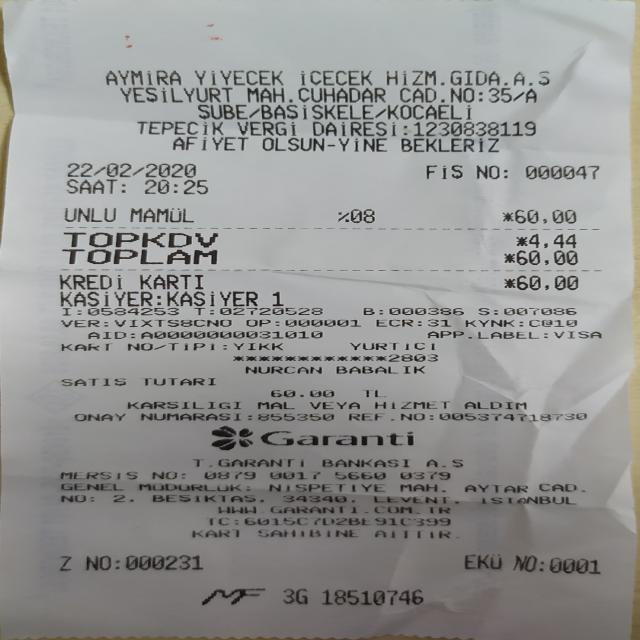text: (385, 66, 549, 87), (64, 230, 216, 248), (260, 429, 412, 447), (61, 248, 217, 265), (67, 159, 195, 178), (270, 504, 450, 516), (412, 120, 535, 137), (246, 516, 454, 526), (119, 86, 232, 104), (321, 587, 422, 607), (260, 104, 373, 121), (401, 136, 498, 154), (163, 289, 254, 308), (391, 102, 478, 121), (141, 330, 322, 339), (438, 411, 586, 422), (298, 86, 385, 104), (192, 69, 282, 85), (312, 120, 396, 137), (268, 482, 385, 494), (137, 120, 223, 136), (152, 492, 255, 505), (124, 554, 206, 570), (172, 135, 248, 152), (102, 69, 180, 85), (524, 164, 602, 180), (127, 400, 240, 411), (256, 528, 358, 540), (428, 329, 538, 340), (145, 177, 207, 196), (139, 481, 237, 493), (139, 411, 245, 422), (56, 289, 116, 308), (322, 457, 409, 470), (218, 457, 312, 469), (481, 494, 575, 506), (262, 135, 323, 153), (516, 248, 577, 266), (297, 70, 375, 84), (239, 120, 307, 136), (139, 273, 202, 290), (59, 273, 121, 290), (551, 554, 597, 576), (221, 306, 321, 316), (514, 208, 576, 224), (67, 176, 119, 195), (111, 319, 233, 327), (349, 341, 433, 352), (516, 275, 577, 290), (196, 102, 244, 121), (89, 306, 180, 316), (372, 528, 453, 539), (335, 364, 423, 374), (142, 376, 215, 388), (373, 493, 446, 505), (129, 207, 191, 221), (348, 411, 425, 422), (60, 470, 136, 481), (259, 411, 334, 422), (375, 400, 449, 411), (283, 492, 345, 505), (61, 376, 125, 388), (388, 306, 464, 316), (464, 482, 527, 494), (245, 364, 320, 374), (61, 481, 123, 493), (464, 551, 499, 572), (504, 306, 576, 316), (64, 207, 115, 221), (464, 400, 526, 411), (340, 138, 388, 152), (247, 86, 284, 104), (425, 164, 466, 180), (529, 233, 575, 247), (400, 86, 435, 104), (270, 388, 333, 398), (120, 289, 153, 308), (286, 319, 362, 327), (191, 527, 238, 539), (204, 470, 255, 481), (309, 400, 359, 411), (74, 411, 124, 422), (334, 470, 384, 481), (400, 470, 450, 481), (465, 317, 514, 328), (61, 341, 110, 352), (528, 317, 576, 328), (233, 341, 281, 352), (554, 329, 601, 340), (266, 471, 323, 480), (387, 352, 437, 362), (167, 342, 214, 352), (262, 289, 285, 308), (426, 458, 462, 470), (281, 589, 308, 605), (61, 317, 99, 328), (488, 86, 511, 104), (514, 554, 537, 572), (257, 400, 294, 411), (450, 86, 472, 104), (376, 317, 412, 328), (400, 482, 436, 493), (539, 482, 572, 494), (86, 553, 108, 571), (216, 505, 259, 514), (87, 330, 125, 340), (349, 208, 374, 223), (476, 164, 499, 180), (61, 492, 85, 504), (150, 470, 178, 480), (246, 317, 270, 328), (127, 341, 151, 352), (427, 317, 450, 328), (155, 289, 168, 308), (361, 388, 383, 398), (209, 516, 227, 528), (113, 553, 124, 571), (113, 177, 124, 194), (513, 86, 523, 104), (526, 86, 536, 104), (60, 553, 70, 571), (504, 249, 514, 265), (516, 233, 527, 247), (504, 275, 514, 290), (191, 458, 206, 468), (189, 306, 203, 316), (535, 554, 542, 574), (334, 212, 348, 222), (113, 492, 124, 504), (498, 212, 513, 220), (362, 306, 373, 316), (478, 306, 488, 316), (327, 136, 333, 152), (430, 411, 438, 422), (247, 411, 254, 422), (440, 86, 444, 104), (478, 86, 482, 104), (236, 516, 242, 528), (76, 306, 83, 316), (403, 120, 407, 136), (210, 306, 216, 316), (288, 86, 291, 104), (259, 492, 263, 504), (274, 317, 278, 328), (417, 317, 421, 328), (180, 470, 184, 481), (493, 306, 497, 316), (130, 330, 134, 340), (90, 492, 93, 504), (454, 493, 457, 505), (104, 317, 107, 328), (519, 317, 522, 328), (379, 306, 382, 316), (544, 329, 546, 340)
